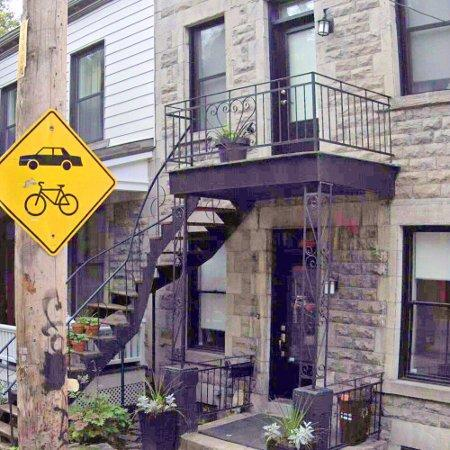stairs: (67, 160, 242, 382), (0, 338, 15, 445)
